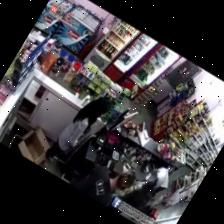person: (41, 97, 111, 166), (71, 167, 135, 206)
